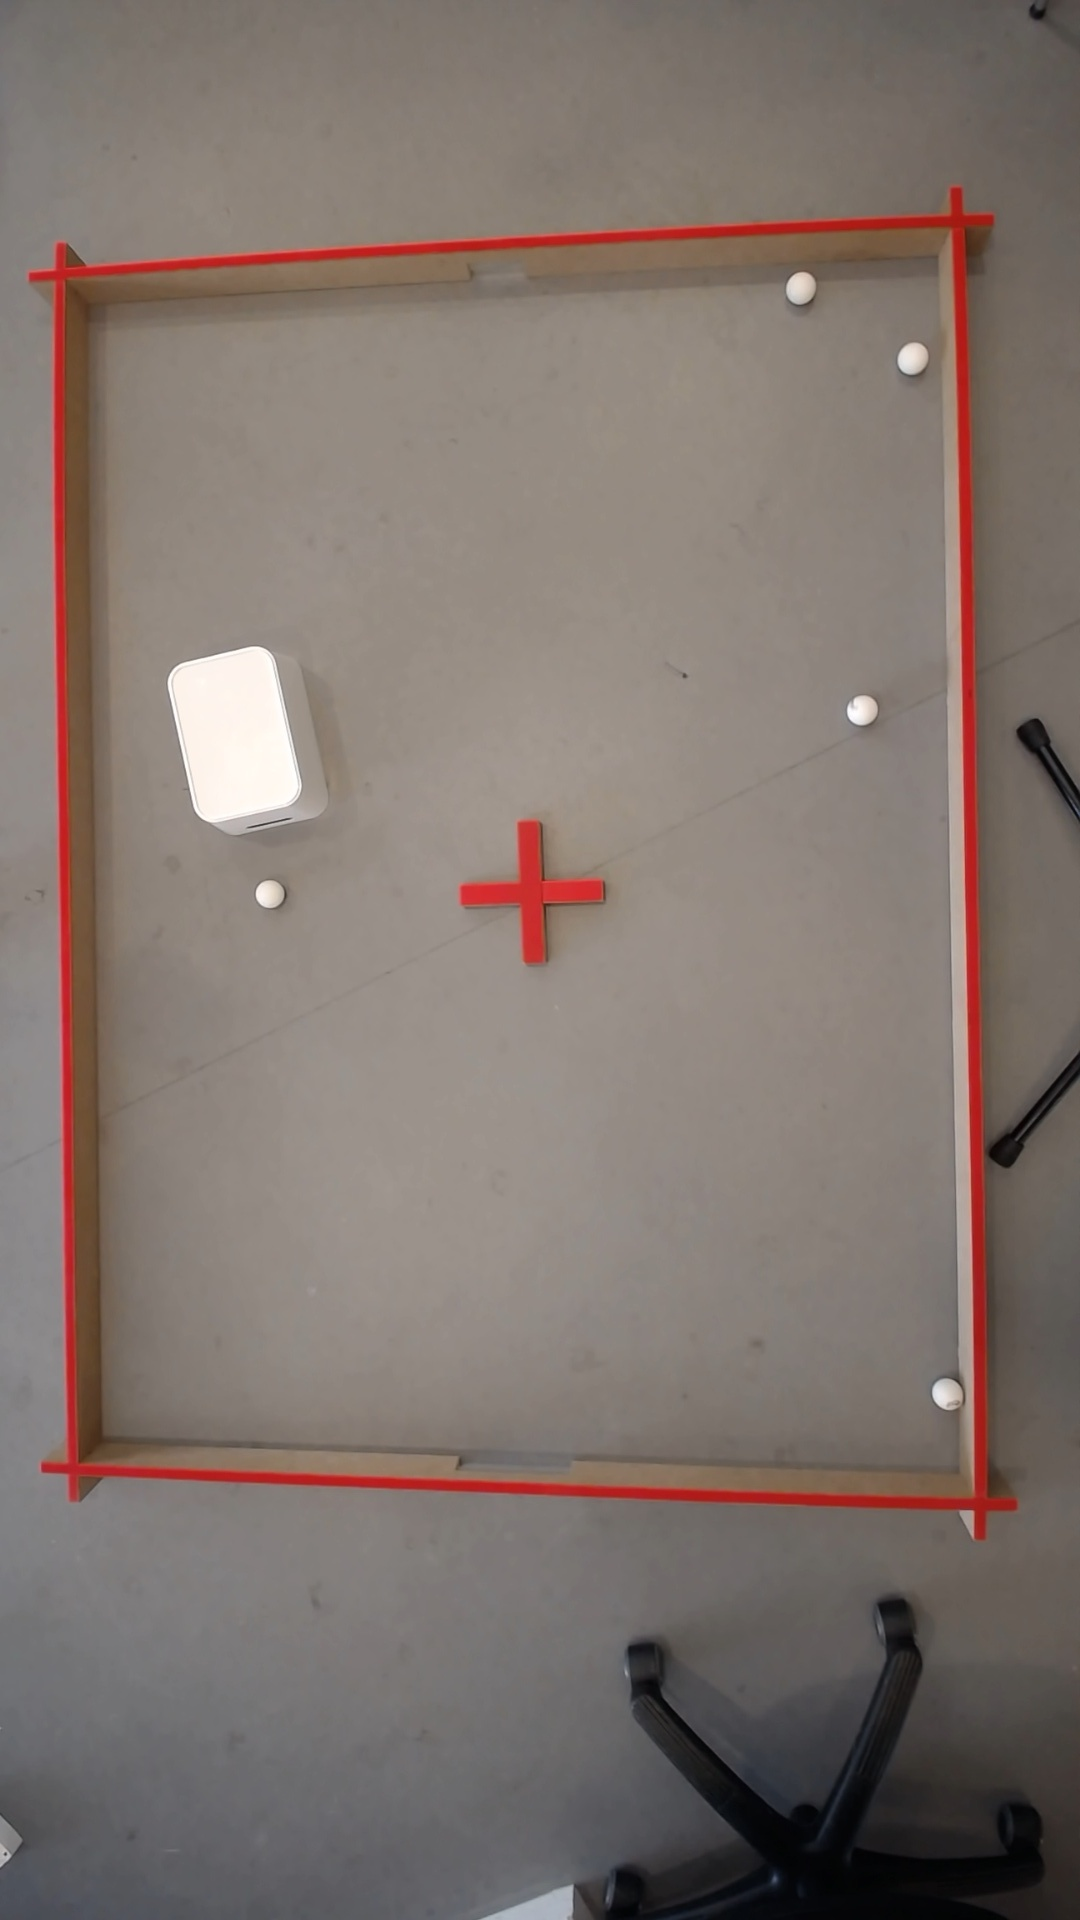balls: (161, 640, 305, 827), (891, 338, 927, 376), (841, 690, 877, 728), (781, 269, 815, 302), (926, 1375, 959, 1408)
car: (249, 877, 281, 910)
